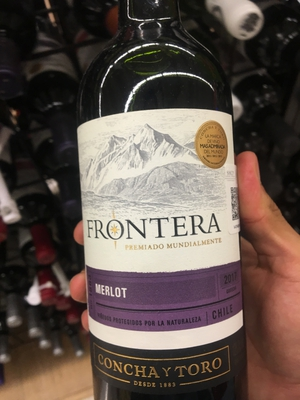frontera merlot: (67, 12, 255, 400)
